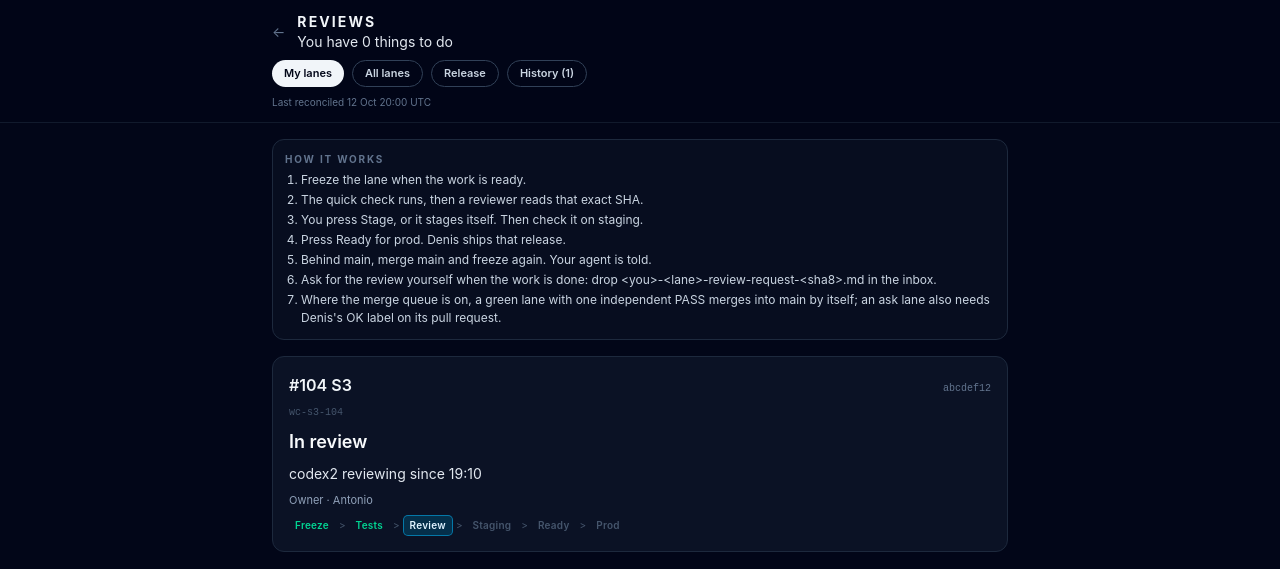
it: ReviewQueue › puts a superseded card in History and shows the release
Expected: the heading "#104 S3" is shown, [289, 372, 352, 396]
Expected: the text "Old freeze" is not shown
Click the button with test id "view-history" at (547, 73), box [507, 60, 587, 86]
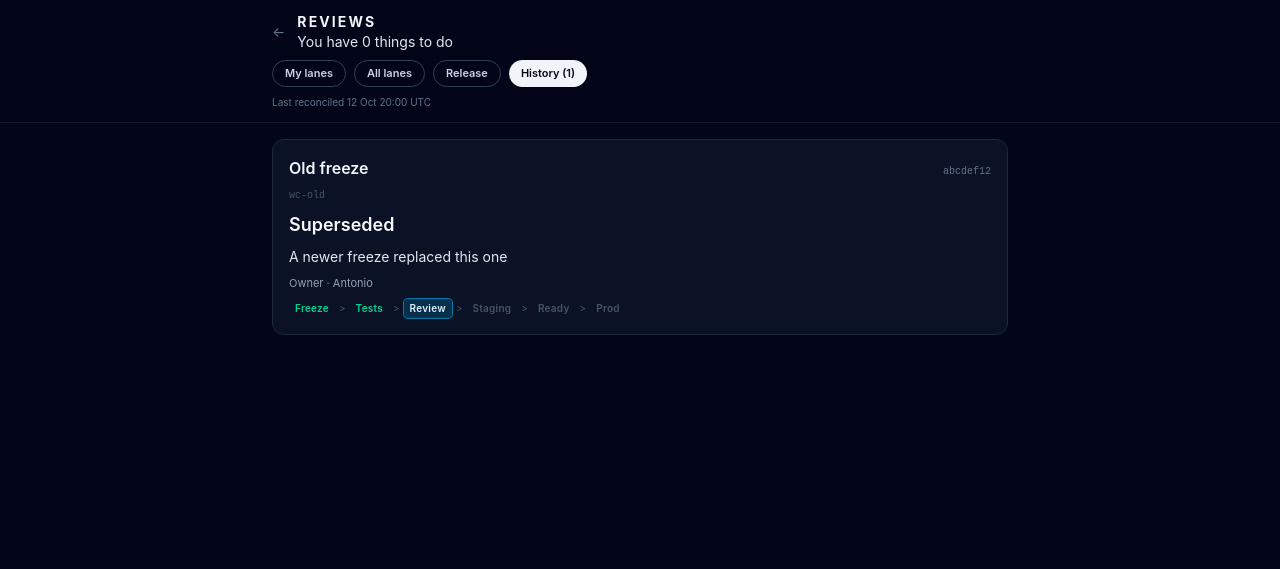
Expected: the heading "Old freeze" is shown, [289, 156, 369, 180]
Expected: the heading "#104 S3" is gone
Click the button with test id "view-release" at (467, 73), box [433, 60, 501, 86]
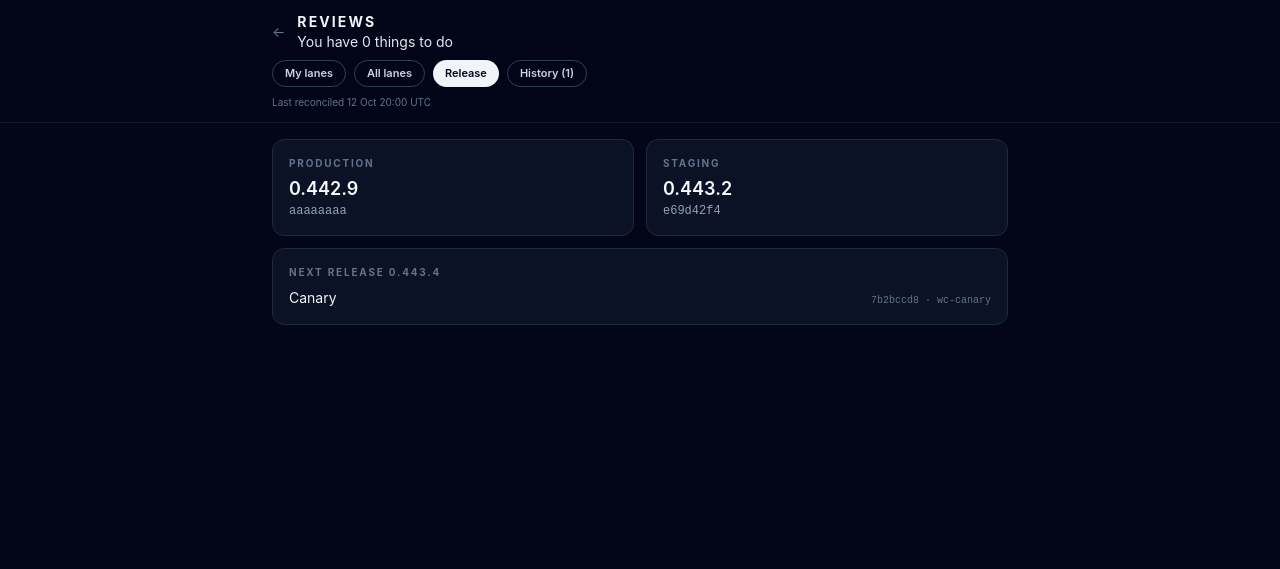
Expected: the element with test id "release-production" shows "0.442.9", [289, 178, 358, 198]
Expected: the element with test id "release-staging" shows "e69d42f4", [663, 204, 721, 218]
Expected: the list item with test id "queued-wc-canary" shows "Canary", [289, 288, 337, 306]
